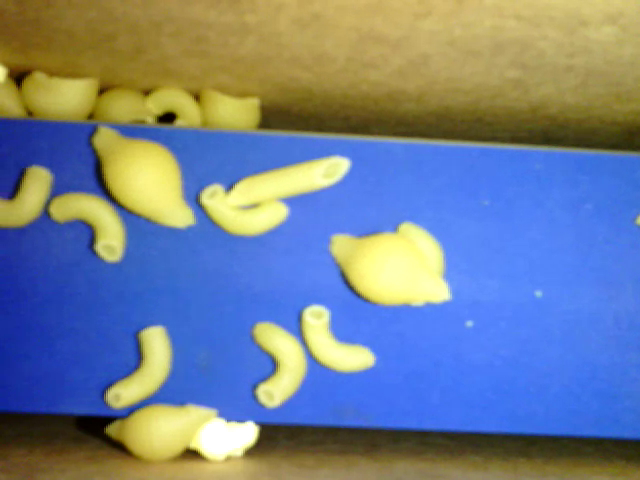elbow: (105, 323, 172, 408), (48, 191, 125, 264), (301, 305, 375, 373), (199, 183, 289, 237), (252, 320, 306, 409), (394, 221, 442, 306), (1, 165, 54, 226), (148, 87, 203, 125)
penne: (225, 154, 352, 208), (377, 234, 378, 235)
shell: (90, 125, 195, 229), (330, 231, 452, 308), (105, 403, 219, 461), (20, 70, 100, 120), (197, 86, 260, 133), (91, 84, 157, 125)
